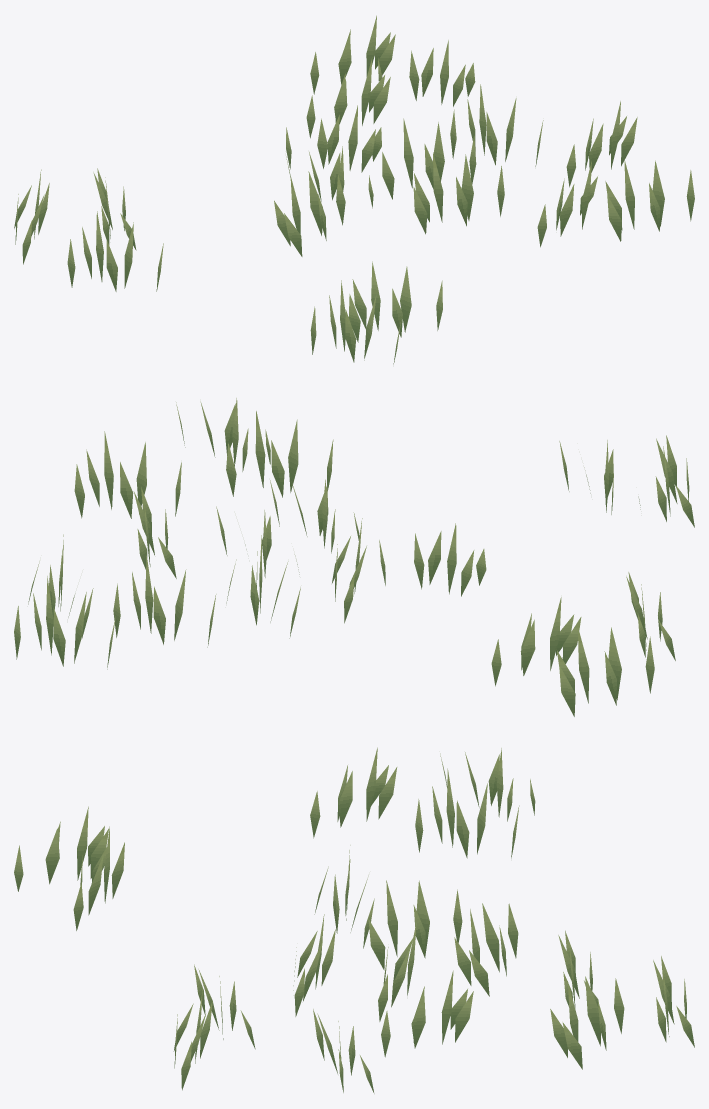
File: plants_un_main_grass_set11_01.gltf
3 renders of one model, top to bottom at view 1: azimuth 30°, elevation 25°; view 2: azimuth 150°, elevation 25°; view 3: azimuth 270°, elevation 25°, orthographic. The views are drawn at different scales.
Parts seen in each view (by area): view 1: plants_un_main_grass_set11_01_mesh_shape:plants_un_main_gras; view 2: plants_un_main_grass_set11_01_mesh_shape:plants_un_main_gras; view 3: plants_un_main_grass_set11_01_mesh_shape:plants_un_main_gras.
Boxes of the visible parts, box(x1,y1,x2,y2) form: plants_un_main_grass_set11_01_mesh_shape:plants_un_main_gras: box(14, 15, 694, 364); plants_un_main_grass_set11_01_mesh_shape:plants_un_main_gras: box(14, 398, 694, 716); plants_un_main_grass_set11_01_mesh_shape:plants_un_main_gras: box(14, 747, 694, 1093).
Size of what is drawn, in the model's own units: 3.78 by 0.4603 by 3.6.
1 material, 1 textured.
